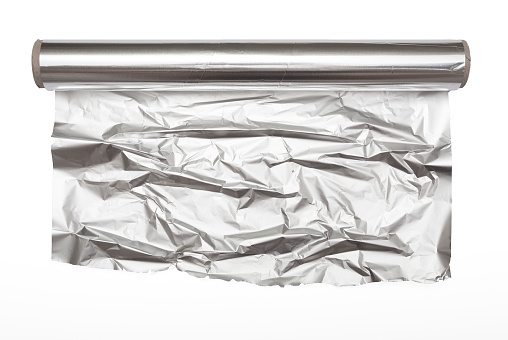metal: (29, 37, 471, 291)
